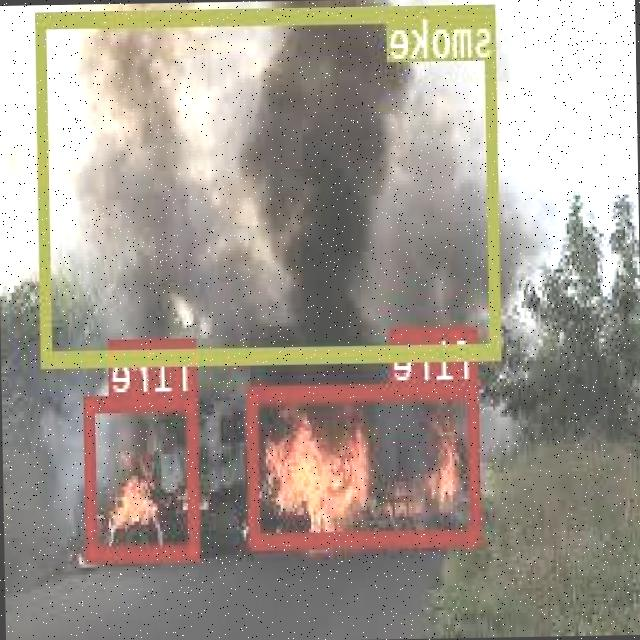fire: (247, 380, 483, 544), (87, 394, 200, 558)
smoke: (39, 2, 502, 365)
